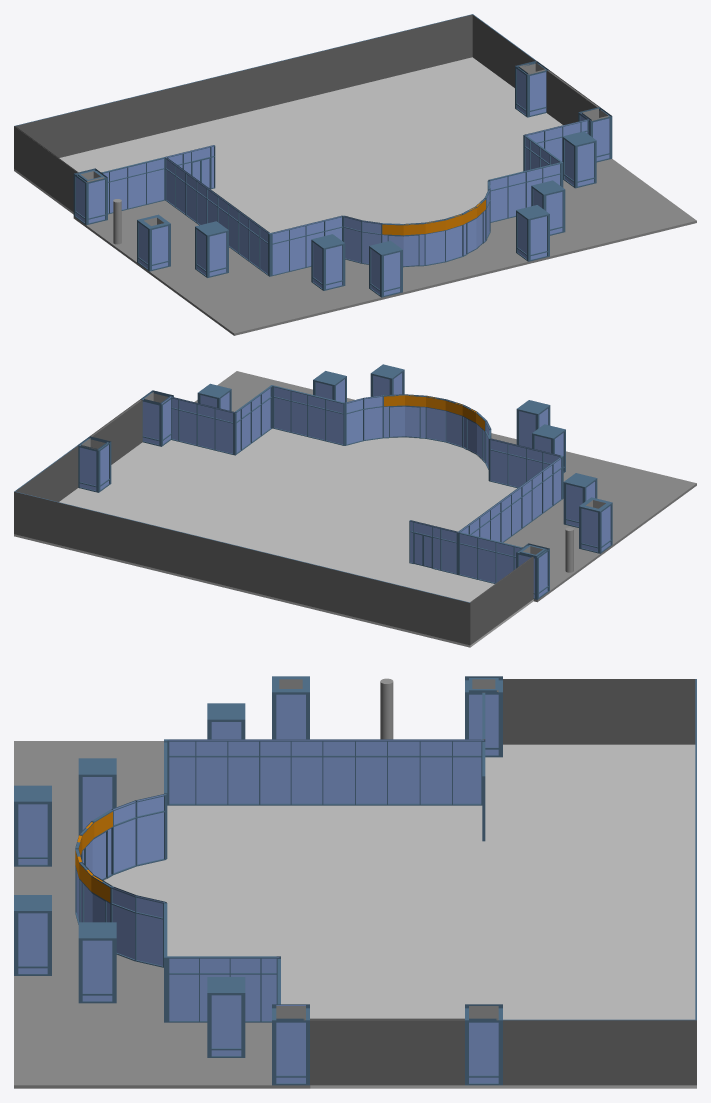
Rendered from 01. Floor plans 2ND Floor 2021.10.06.glb.
The picture shows the model from 3 angles, top to bottom: view 1: azimuth 30°, elevation 25°; view 2: azimuth 150°, elevation 25°; view 3: azimuth 270°, elevation 25°; orthographic projection. The views are drawn at different scales.
Parts seen in each view (by area): view 1: Floor plans 2ND Floor (1), Floor plans 2ND Floor Walls, Floor plans 2ND Floor Window Glass, Floor plans 2ND Floor Window Joinery; view 2: Floor plans 2ND Floor (1), Floor plans 2ND Floor Walls, Floor plans 2ND Floor Window Glass, Floor plans 2ND Floor Window Joinery; view 3: Floor plans 2ND Floor (1), Floor plans 2ND Floor Walls, Floor plans 2ND Floor Window Glass, Floor plans 2ND Floor Window Joinery.
Part boxes in pixels (<box>): Floor plans 2ND Floor (1): <box>14,57,696,335</box>; Floor plans 2ND Floor Walls: <box>14,14,599,211</box>; Floor plans 2ND Floor Window Glass: <box>103,120,587,274</box>; Floor plans 2ND Floor Window Joinery: <box>101,119,588,276</box>; Floor plans 2ND Floor (1): <box>14,364,696,647</box>; Floor plans 2ND Floor Walls: <box>14,399,533,645</box>; Floor plans 2ND Floor Window Glass: <box>171,387,561,582</box>; Floor plans 2ND Floor Window Joinery: <box>171,385,563,583</box>; Floor plans 2ND Floor (1): <box>14,676,696,1088</box>; Floor plans 2ND Floor Walls: <box>310,679,696,1085</box>; Floor plans 2ND Floor Window Glass: <box>75,739,483,1020</box>; Floor plans 2ND Floor Window Joinery: <box>75,692,485,1022</box>.
Bounding box in the file's own units: 38.44 × 3.57 × 32.24.
